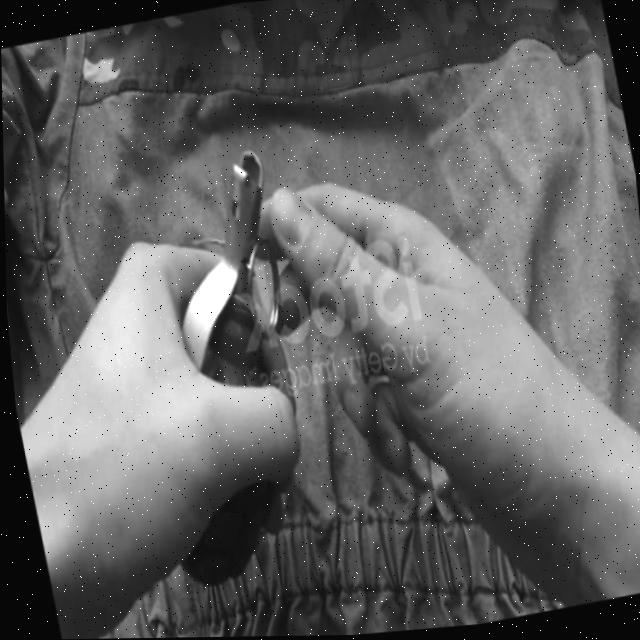grenade: (101, 133, 338, 589)
